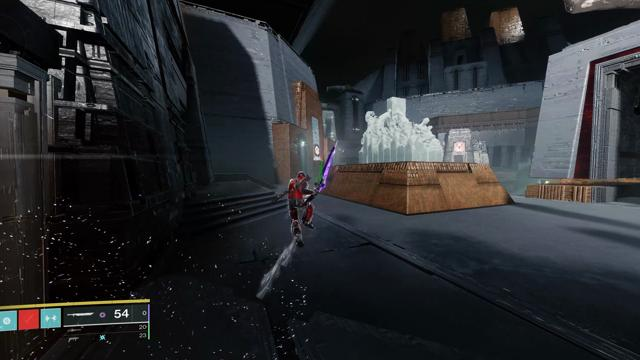give: (456, 143, 463, 151)
worship: (315, 146, 320, 155)
